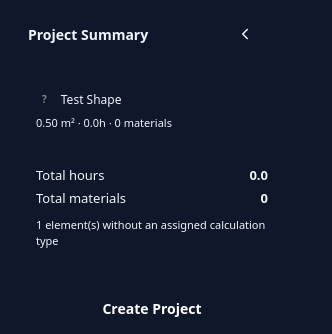
Test: ProjectSummaryPanel › collapse/expand toggle works
Later steps or results of the test are not shown.
Expected: the text "Project Summary" is shown, x1=28 y1=24 x2=148 y2=44
What coordinates should you click on to do the following:
click the 1st button
I would click on:
 (254, 34)
Its box is x1=232 y1=12 x2=276 y2=56.
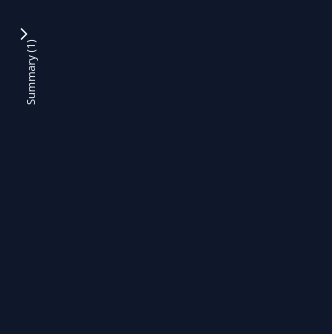
Now the text "Summary (1)" is shown, box x1=24 y1=40 x2=40 y2=105
